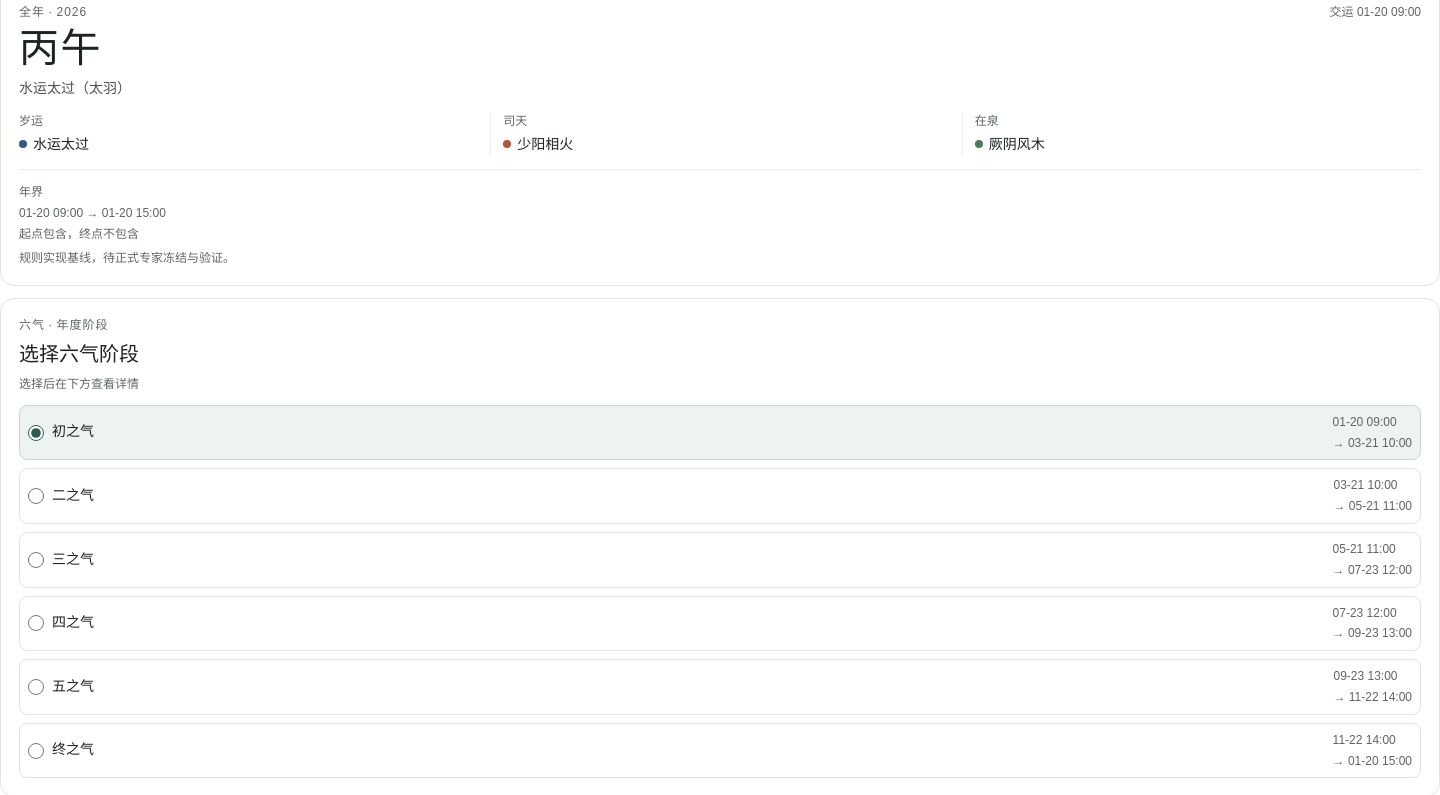
AnnualYunQiPage › changes only the single detail panel
This screenshot has width=1440, height=795.
Click the radio button labelled "三之气 05-21 11:00 → 07-23 12:00".
click(36, 560)  # box top-left (28, 552), bottom-right (44, 568)
(page scrolled)
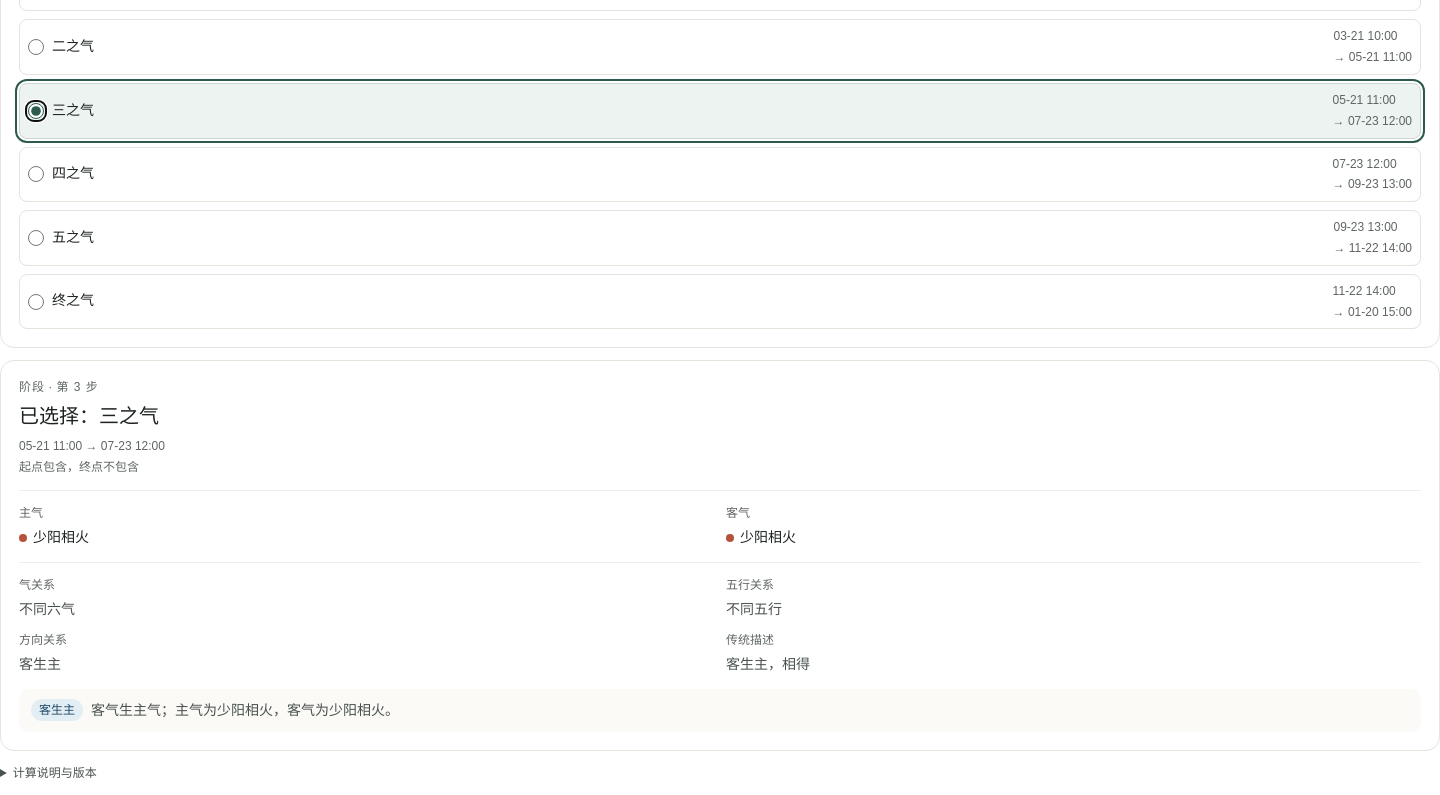
Expected: the number of elements "已选择：" is 1, top-left (0, 360), bottom-right (1439, 751)
Result: the element "已选择：三之气" is shown at top-left (0, 360), bottom-right (1439, 751)
